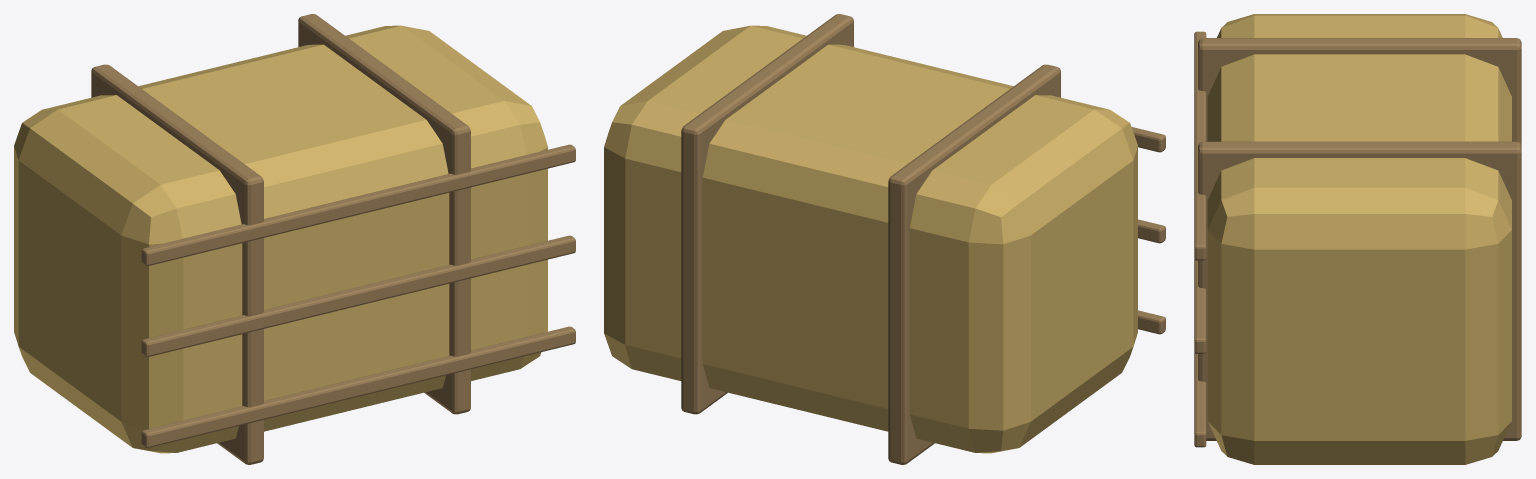
Rendered from hay_bale_1p0.glb.
3 views of the same model, side by side, from view 1: azimuth 30°, elevation 25°; view 2: azimuth 150°, elevation 25°; view 3: azimuth 270°, elevation 25° (orthographic). The views are drawn at different scales.
Visible parts, largest first — view 1: hay_bale_body, hay_bale_rope_-0.25, hay_bale_rope_+0.25, hay_bale_layer_03, hay_bale_layer_01, hay_bale_layer_02; view 2: hay_bale_body, hay_bale_rope_-0.25, hay_bale_rope_+0.25, hay_bale_layer_03; view 3: hay_bale_body, hay_bale_rope_+0.25, hay_bale_rope_-0.25, hay_bale_layer_03, hay_bale_layer_01, hay_bale_layer_02.
Part boxes in pixels (x1,y1,x2,y2): hay_bale_body: [14, 25, 547, 453]; hay_bale_rope_-0.25: [91, 64, 263, 464]; hay_bale_rope_+0.25: [298, 14, 470, 414]; hay_bale_layer_03: [141, 144, 575, 265]; hay_bale_layer_01: [141, 326, 575, 447]; hay_bale_layer_02: [141, 235, 575, 356]; hay_bale_body: [604, 25, 1137, 453]; hay_bale_rope_-0.25: [888, 64, 1060, 464]; hay_bale_rope_+0.25: [681, 14, 853, 414]; hay_bale_layer_03: [1131, 127, 1165, 152]; hay_bale_body: [1207, 14, 1511, 464]; hay_bale_rope_+0.25: [1198, 141, 1521, 440]; hay_bale_rope_-0.25: [1198, 38, 1521, 145]; hay_bale_layer_03: [1194, 31, 1206, 260]; hay_bale_layer_01: [1194, 352, 1206, 447]; hay_bale_layer_02: [1194, 259, 1206, 353].
Bounding box in the file's own units: 1.04 × 0.66 × 0.6675.
